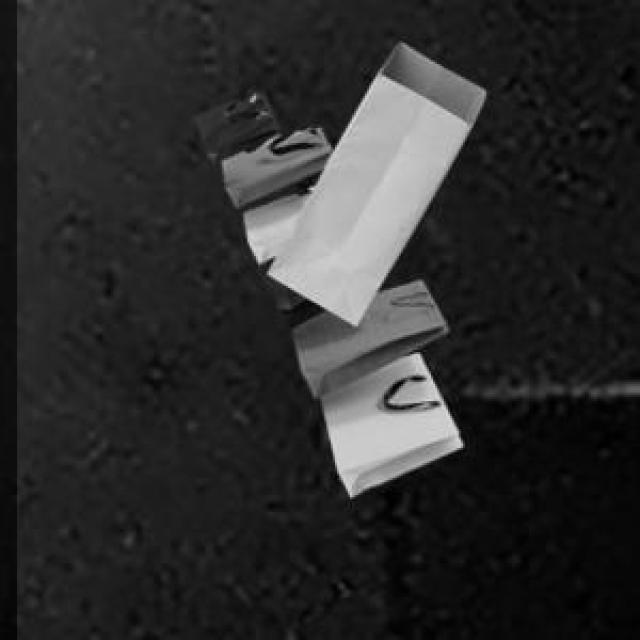paper: (192, 90, 459, 493), (265, 38, 482, 322)
